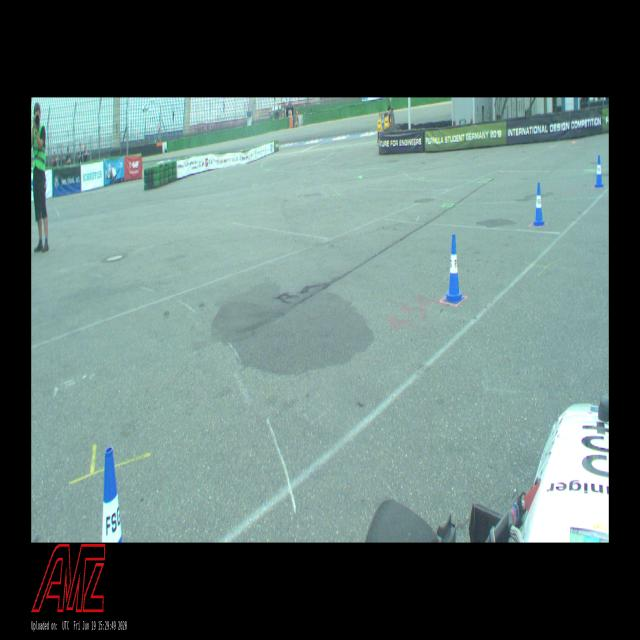blue_cone: (102, 448, 122, 542), (444, 235, 464, 304), (532, 183, 544, 225), (594, 156, 604, 187)
